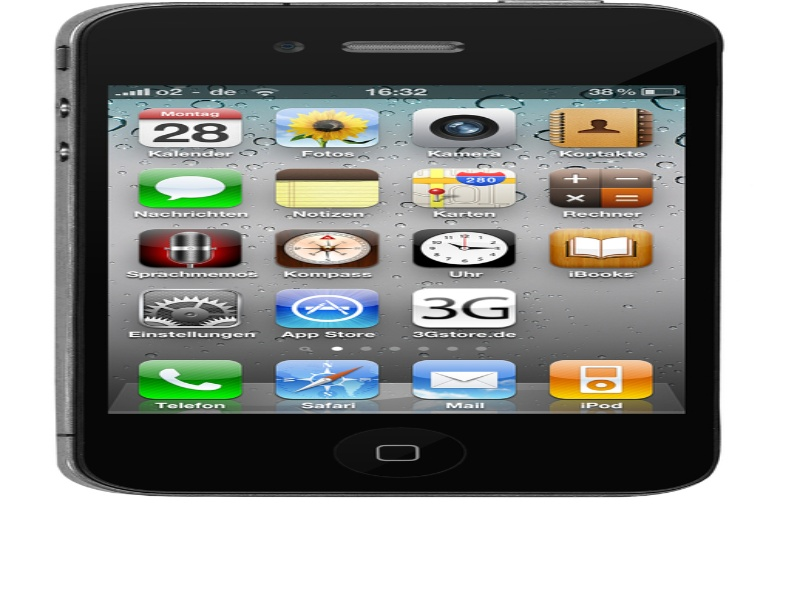cellphone: (51, 5, 730, 508)
